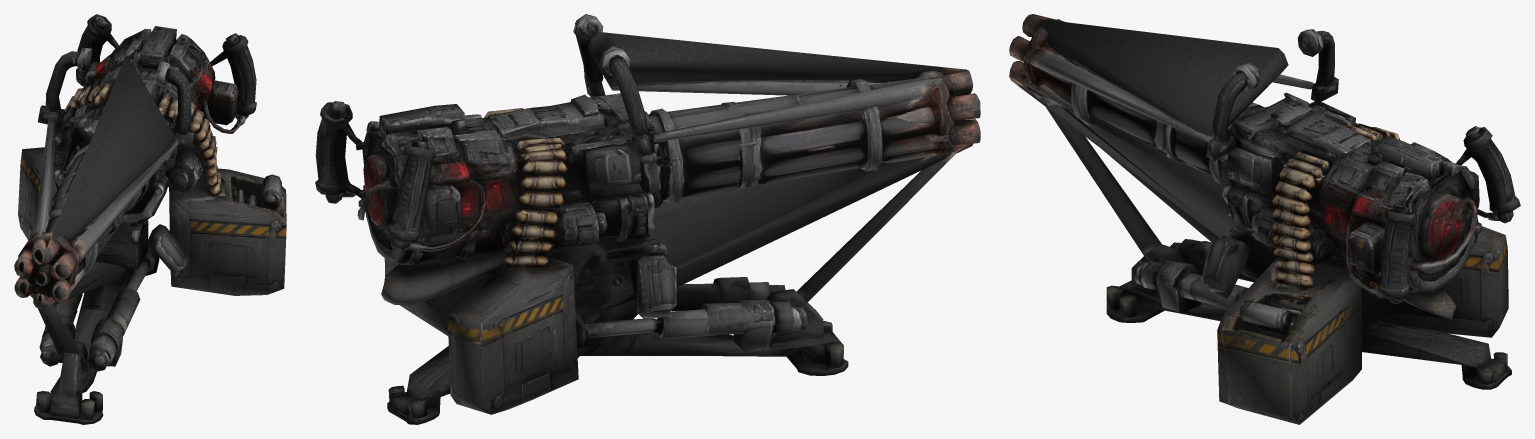
The model's file is gatling.glb.
The picture shows the model from 3 angles, left to right: view 1: azimuth 30°, elevation 25°; view 2: azimuth 150°, elevation 25°; view 3: azimuth 270°, elevation 25°; orthographic projection. The views are drawn at different scales.
Parts seen in each view (by area): view 1: tripo_node_86d4480f-d3d7-4497-815c-bb7faedea556; view 2: tripo_node_86d4480f-d3d7-4497-815c-bb7faedea556; view 3: tripo_node_86d4480f-d3d7-4497-815c-bb7faedea556.
Boxes of the visible parts, x1,y1,x2,y2 form: tripo_node_86d4480f-d3d7-4497-815c-bb7faedea556: (14,14,286,424); tripo_node_86d4480f-d3d7-4497-815c-bb7faedea556: (315,14,980,424); tripo_node_86d4480f-d3d7-4497-815c-bb7faedea556: (1009,14,1520,424).
Size of the model in its own units: 0.998 by 0.7051 by 0.9941.
1 material, 1 textured.
